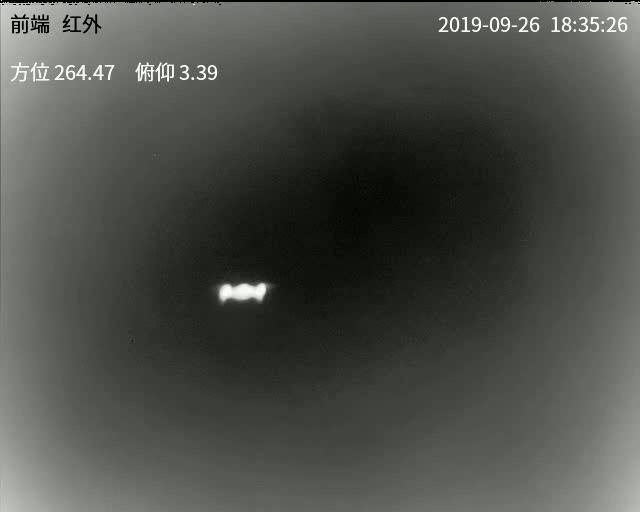DRONE: (217, 280, 268, 303)
